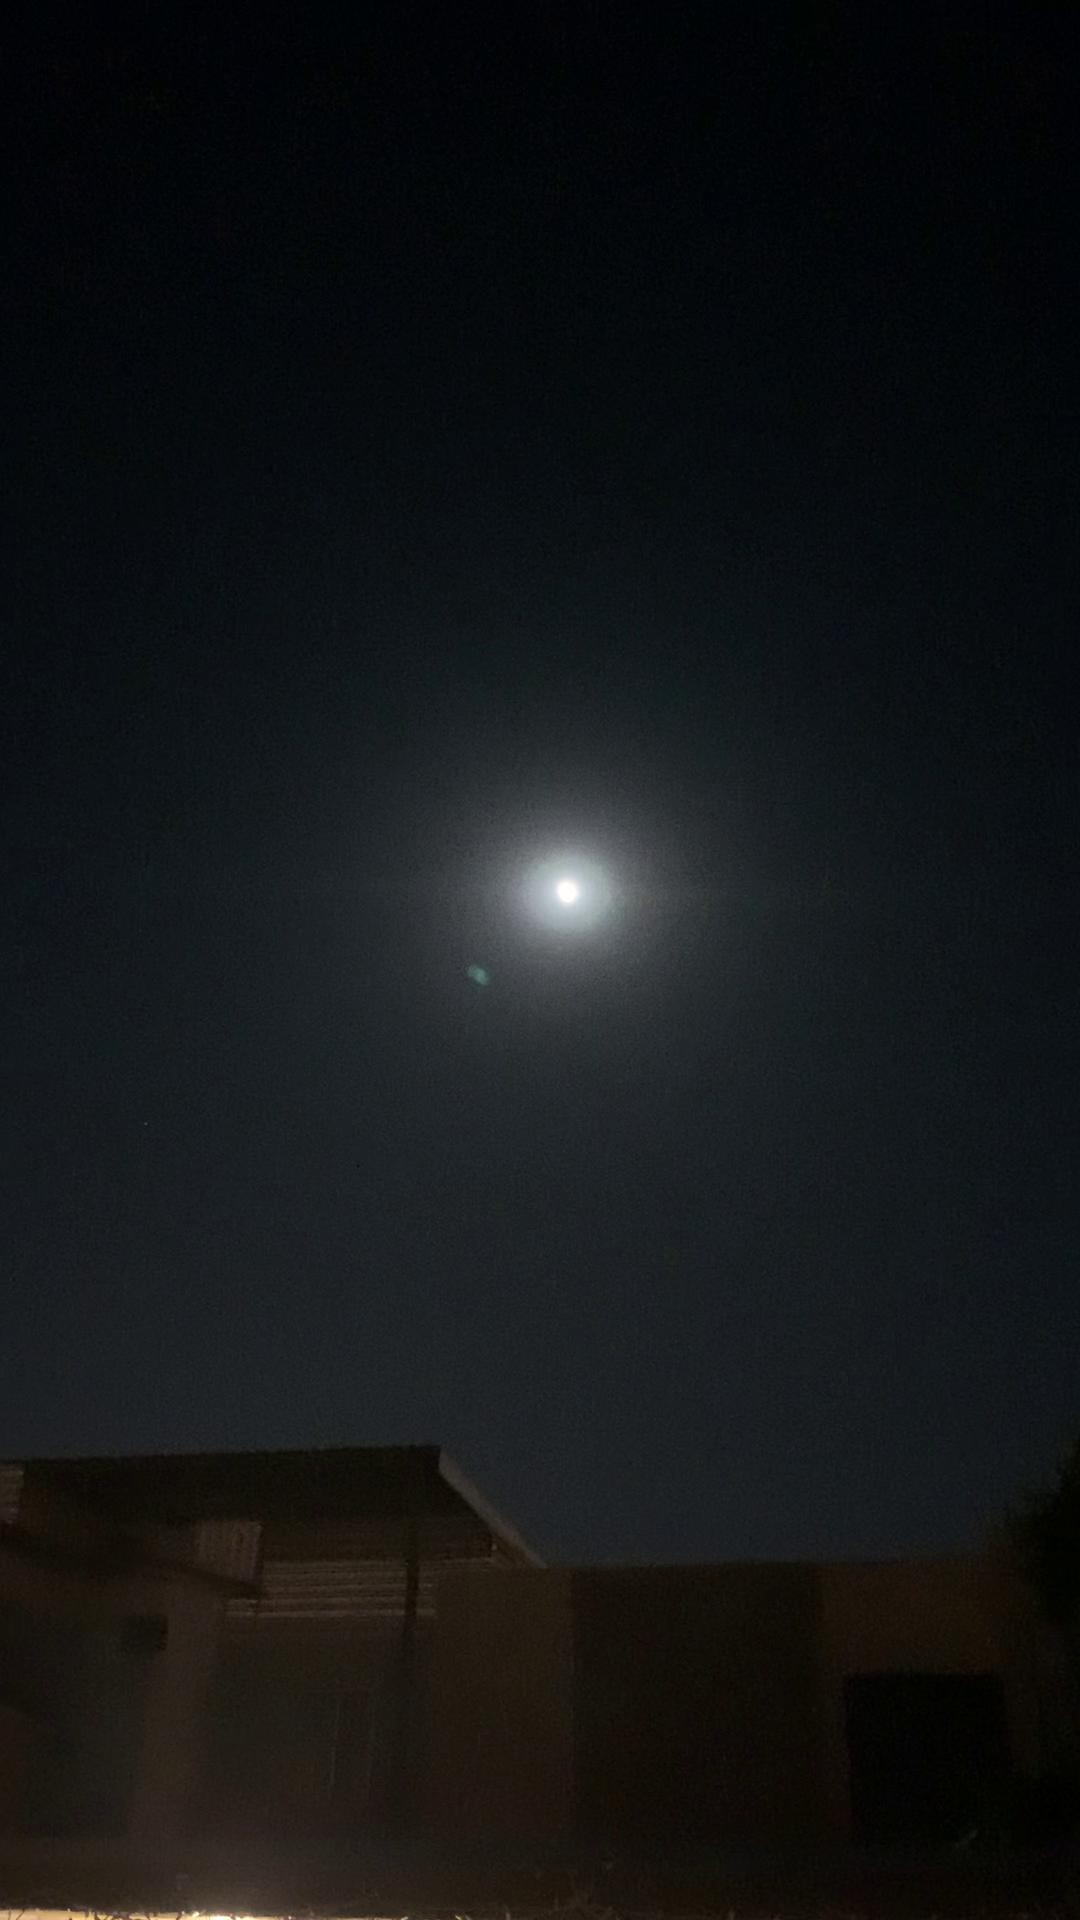moon: (518, 843, 618, 932)
